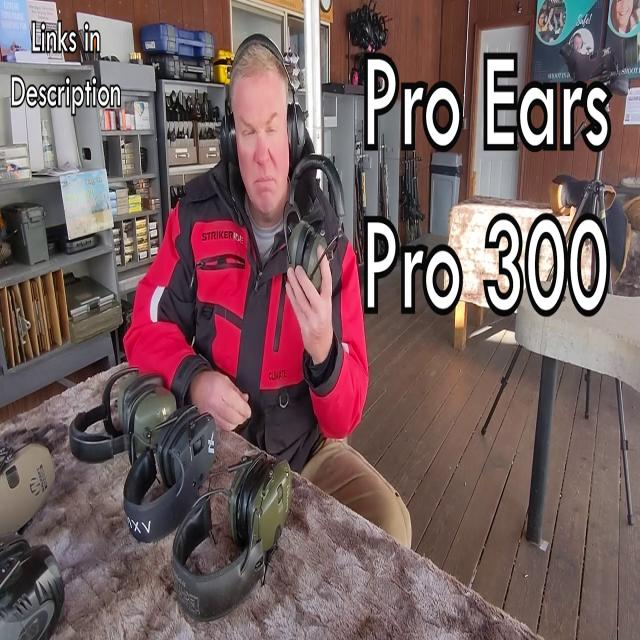earmuff: (285, 98, 311, 172), (218, 109, 240, 172)
